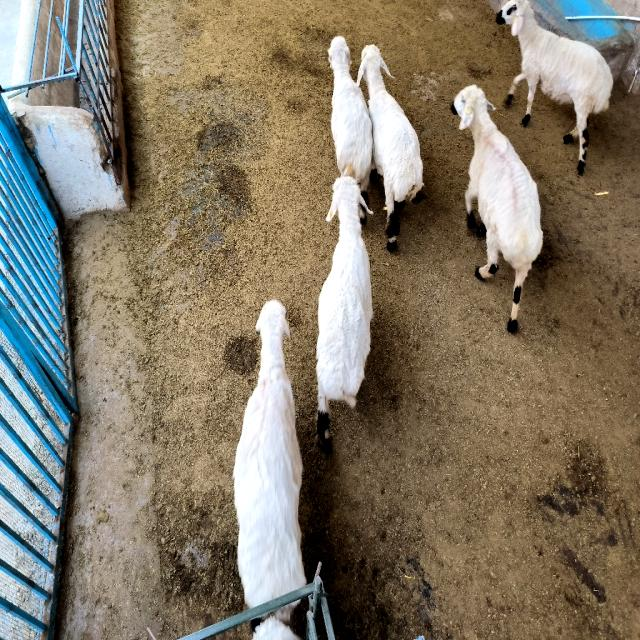sheep: (451, 85, 542, 332), (234, 300, 306, 606), (496, 0, 612, 174), (318, 177, 372, 446), (358, 45, 422, 250), (329, 37, 372, 202)
